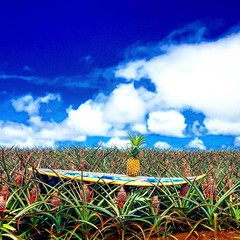Pineapple: (125, 133, 142, 177)
